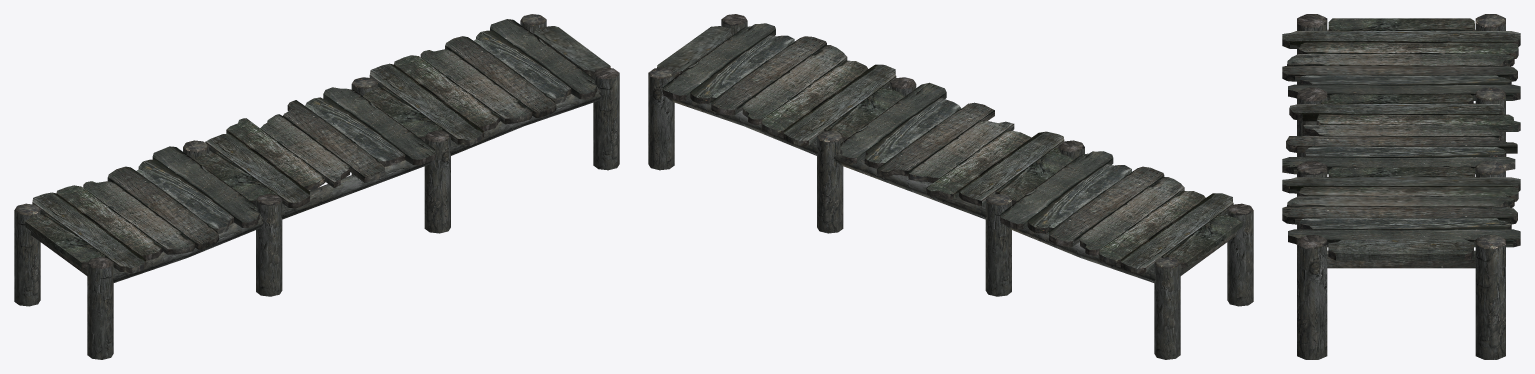
Rendered from bridge.obj.
The picture shows the model from 3 angles, left to right: view 1: azimuth 30°, elevation 25°; view 2: azimuth 150°, elevation 25°; view 3: azimuth 270°, elevation 25°; orthographic projection. The views are drawn at different scales.
Parts seen in each view (by area): view 1: nifid_11_matrix, nifid_7_matrix; view 2: nifid_11_matrix, nifid_7_matrix; view 3: nifid_11_matrix, nifid_7_matrix.
Boxes of the visible parts, x1,y1,x2,y2 form: nifid_11_matrix: [25, 19, 609, 275]; nifid_7_matrix: [14, 14, 619, 359]; nifid_11_matrix: [657, 23, 1242, 275]; nifid_7_matrix: [648, 14, 1253, 359]; nifid_11_matrix: [1282, 18, 1520, 268]; nifid_7_matrix: [1282, 14, 1520, 359].
Size of the model in its own units: 806 by 230 by 256.
Materials: 2 (2 with a texture image).
